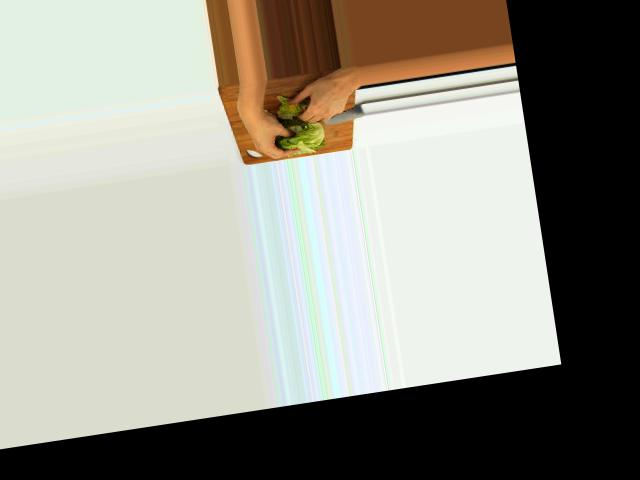lettuce: (275, 116, 327, 156)
